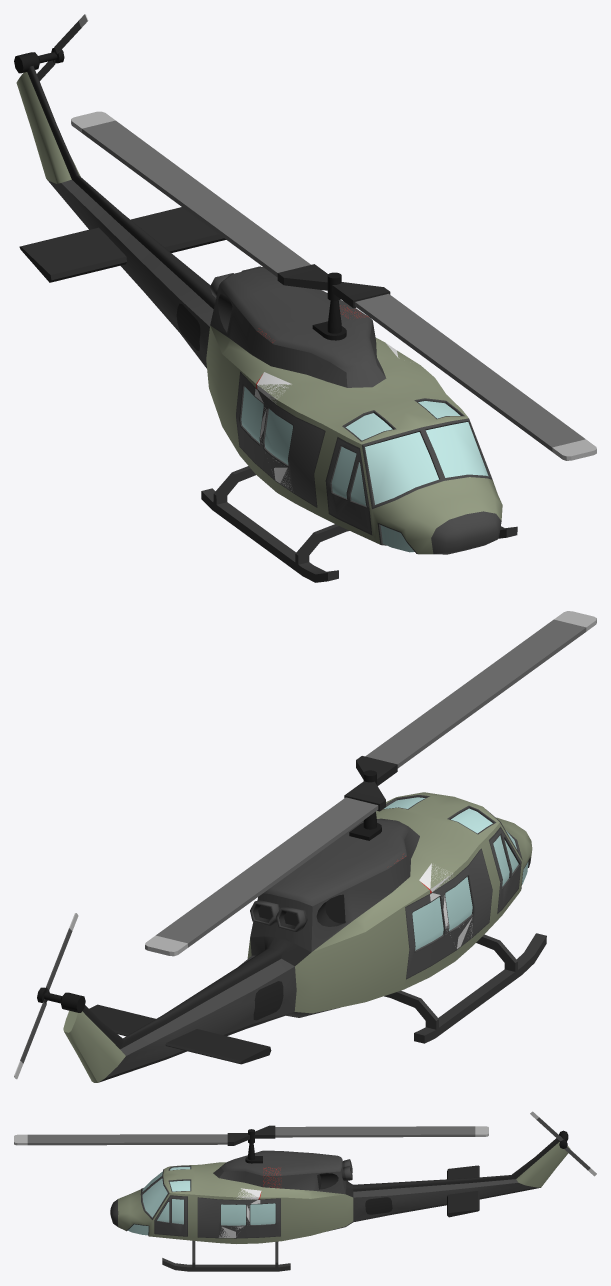
File: SM_Vehilces_Helicopter_V1.fbx
3 renders of one model, top to bottom at view 1: azimuth 30°, elevation 25°; view 2: azimuth 150°, elevation 25°; view 3: azimuth 270°, elevation 25°, orthographic. The views are drawn at different scales.
Parts seen in each view (by area): view 1: SM_Vehilces_Helicopter_V1, SM_Vehilces_Helicopter_F, SM_Vehilces_Helicopter_V2; view 2: SM_Vehilces_Helicopter_V1, SM_Vehilces_Helicopter_F, SM_Vehilces_Helicopter_V2, SM_Vehilces_Helicopter_B; view 3: SM_Vehilces_Helicopter_V1, SM_Vehilces_Helicopter_F, SM_Vehilces_Helicopter_V2, SM_Vehilces_Helicopter_B.
Part boxes in pixels (box(x1,y1,x2,y2)): SM_Vehilces_Helicopter_V1: box(14, 48, 517, 582); SM_Vehilces_Helicopter_F: box(71, 111, 596, 460); SM_Vehilces_Helicopter_V2: box(252, 305, 399, 492); SM_Vehilces_Helicopter_V1: box(37, 770, 546, 1082); SM_Vehilces_Helicopter_F: box(145, 611, 596, 956); SM_Vehilces_Helicopter_V2: box(394, 854, 472, 949); SM_Vehilces_Helicopter_B: box(14, 913, 78, 1079); SM_Vehilces_Helicopter_V1: box(110, 1129, 570, 1271); SM_Vehilces_Helicopter_F: box(14, 1125, 488, 1145); SM_Vehilces_Helicopter_V2: box(219, 1167, 281, 1238); SM_Vehilces_Helicopter_B: box(530, 1111, 596, 1176).
Size of the model in its own units: 3.55 by 5.07 by 18.67.
